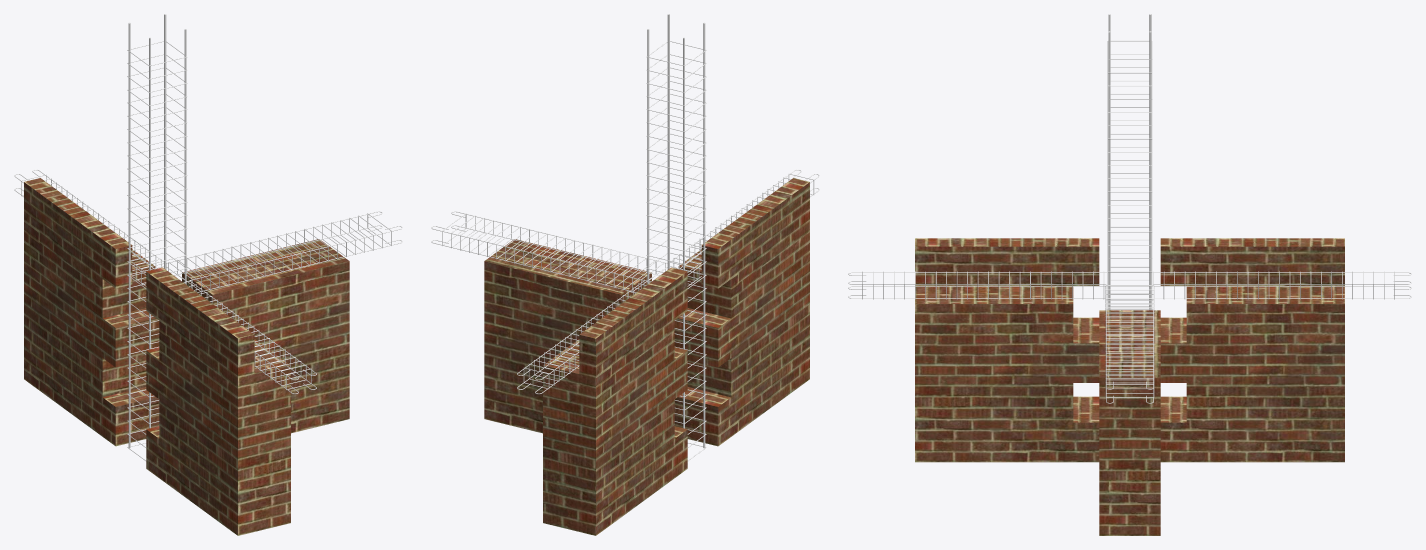
The model's file is construction-column-orig.glb.
3 renders of one model, left to right at view 1: azimuth 30°, elevation 25°; view 2: azimuth 150°, elevation 25°; view 3: azimuth 270°, elevation 25°, orthographic.
Visible parts, largest first — view 1: 墙体, 钢筋, 箍筋; view 2: 墙体, 钢筋, 箍筋; view 3: 墙体, 箍筋, 钢筋.
Boxes of the visible parts, <box> form: 墙体: <box>24,178,349,535</box>; 钢筋: <box>127,14,187,460</box>; 箍筋: <box>14,169,402,394</box>; 墙体: <box>484,178,809,535</box>; 钢筋: <box>646,14,706,460</box>; 箍筋: <box>431,169,819,394</box>; 墙体: <box>915,238,1344,535</box>; 箍筋: <box>848,271,1411,403</box>; 钢筋: <box>1107,14,1152,310</box>.
Size of what is drawn, in the model's own units: 1.73 by 2.69 by 3.22.
Materials: 3 (2 with a texture image).
